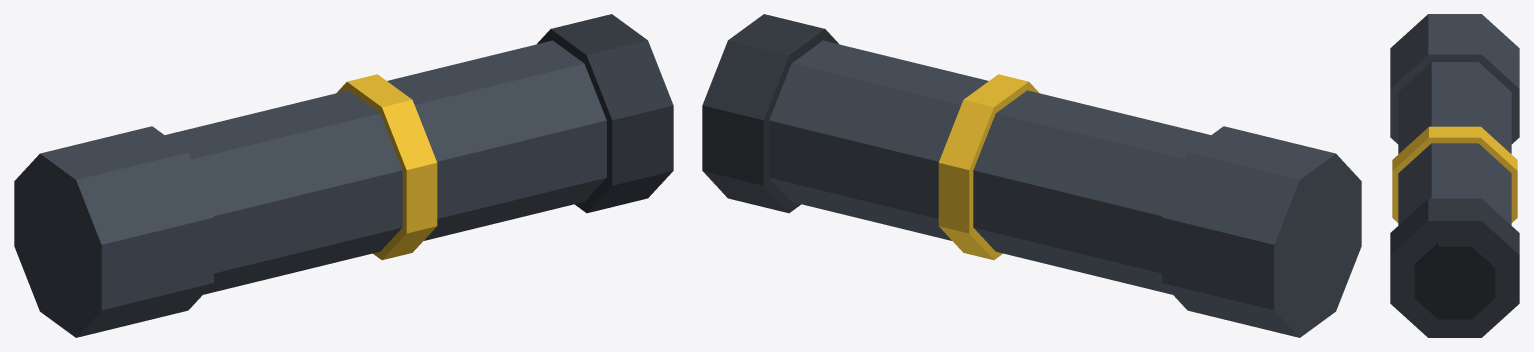
File: barrel_sawed_off.glb
3 renders of one model, left to right at view 1: azimuth 30°, elevation 25°; view 2: azimuth 150°, elevation 25°; view 3: azimuth 270°, elevation 25°, orthographic. The views are drawn at different scales.
Parts seen in each view (by area): view 1: barrel_sawed_off; view 2: barrel_sawed_off; view 3: barrel_sawed_off.
Part boxes in pixels (<box>): barrel_sawed_off: <box>14,14,673,337</box>; barrel_sawed_off: <box>702,14,1361,337</box>; barrel_sawed_off: <box>1390,14,1519,337</box>.
Size of the model in its own units: 0.114 by 0.0296 by 0.0296.
